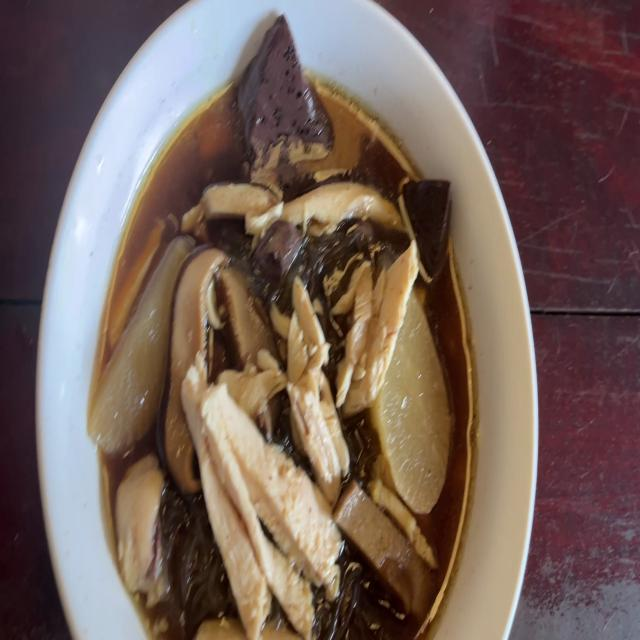noodle: (242, 18, 322, 160), (397, 173, 447, 270), (260, 228, 298, 274)
